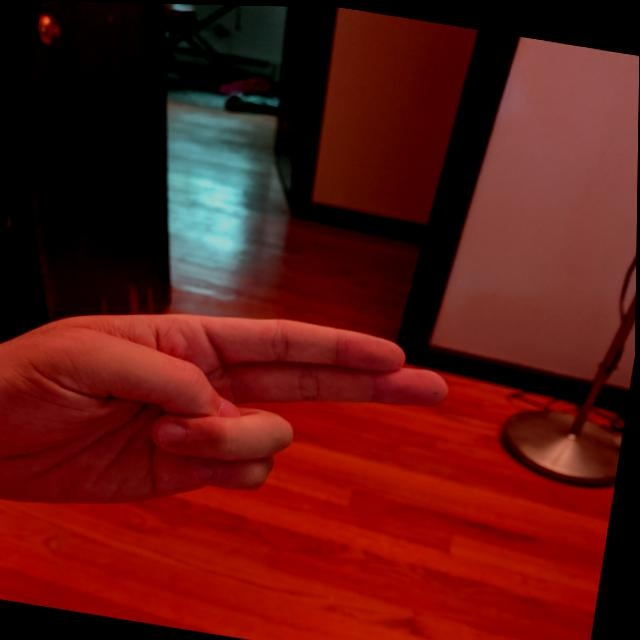H: (0, 268, 472, 576)
